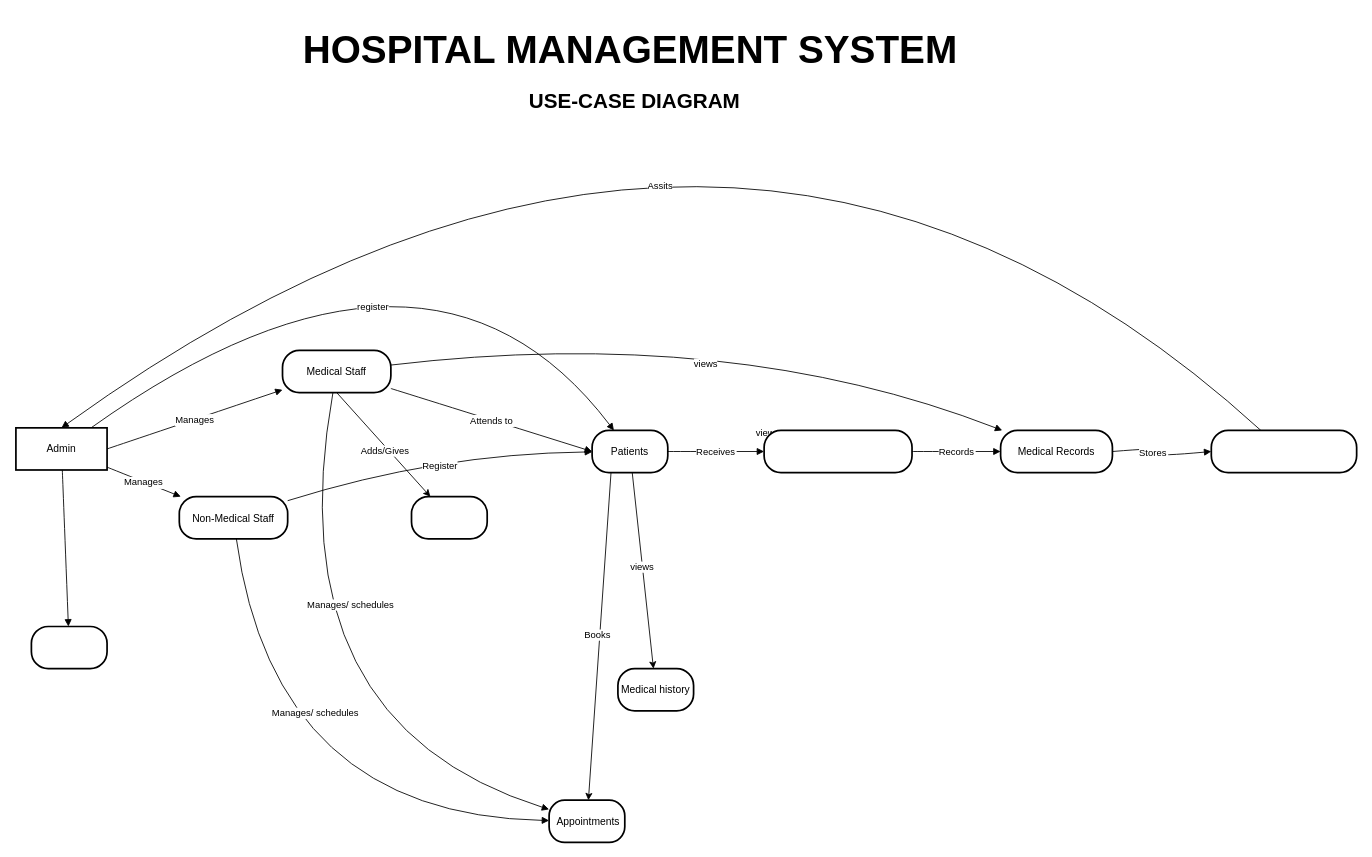
Some shapes in this 1372 by 857 pixel diagram are drawn without their labels. Here are the shapes that lost their labels. From the top down, the centre of each, then its label:
(837,451): Healthcare Services
(1283,451): Patient Information
(449,517): Treatment
(69,647): assign room
